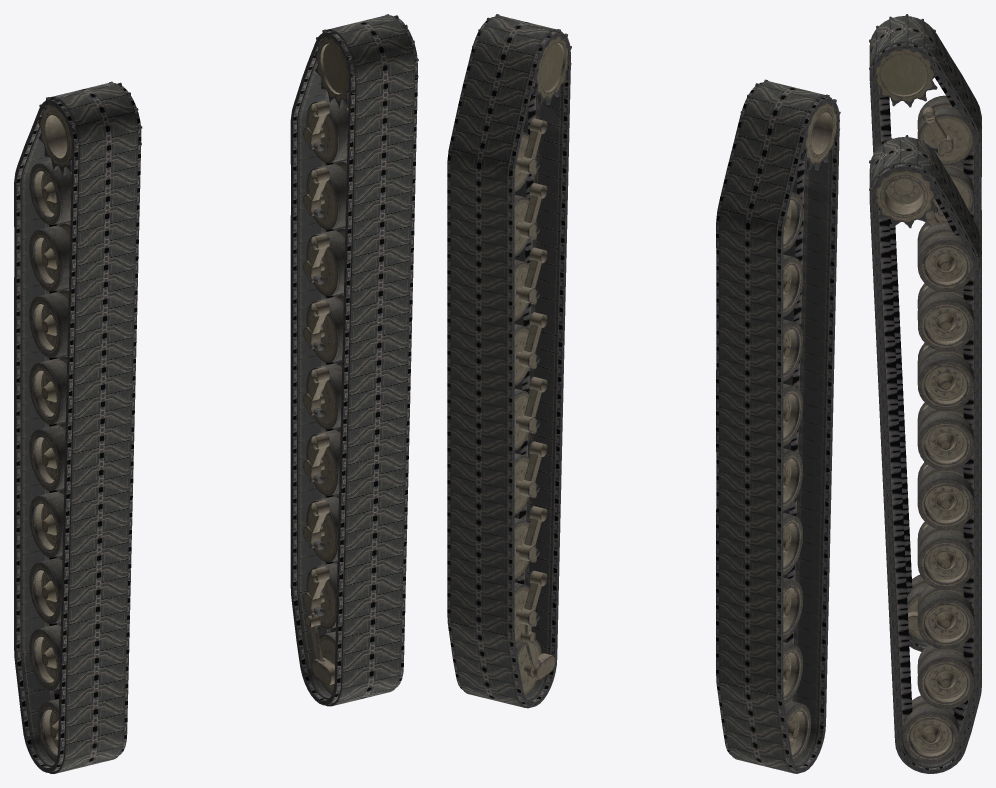
The model's file is Chassis.glb.
3 renders of one model, left to right at view 1: azimuth 30°, elevation 25°; view 2: azimuth 150°, elevation 25°; view 3: azimuth 270°, elevation 25°, orthographic. The views are drawn at different scales.
Parts seen in each view (by area): view 1: set_1_group_0, set_0_group_0, set_3_group_0, set_2_group_0; view 2: set_1_group_0, set_0_group_0, set_3_group_0, set_2_group_0; view 3: set_3_group_0, set_0_group_0, set_1_group_0, set_2_group_0.
Part boxes in pixels (x1,y1,x2,y2): set_1_group_0: [14, 82, 141, 773]; set_0_group_0: [290, 15, 417, 706]; set_3_group_0: [303, 14, 418, 694]; set_2_group_0: [29, 81, 142, 761]; set_1_group_0: [716, 81, 839, 773]; set_0_group_0: [447, 15, 570, 708]; set_3_group_0: [472, 14, 571, 696]; set_2_group_0: [740, 79, 840, 762]; set_3_group_0: [869, 135, 974, 763]; set_0_group_0: [869, 137, 981, 773]; set_1_group_0: [869, 16, 981, 651]; set_2_group_0: [869, 14, 973, 641].
Size of the model in its own units: 3.91 by 7.43 by 1.24.
Materials: 4 (4 with a texture image).
